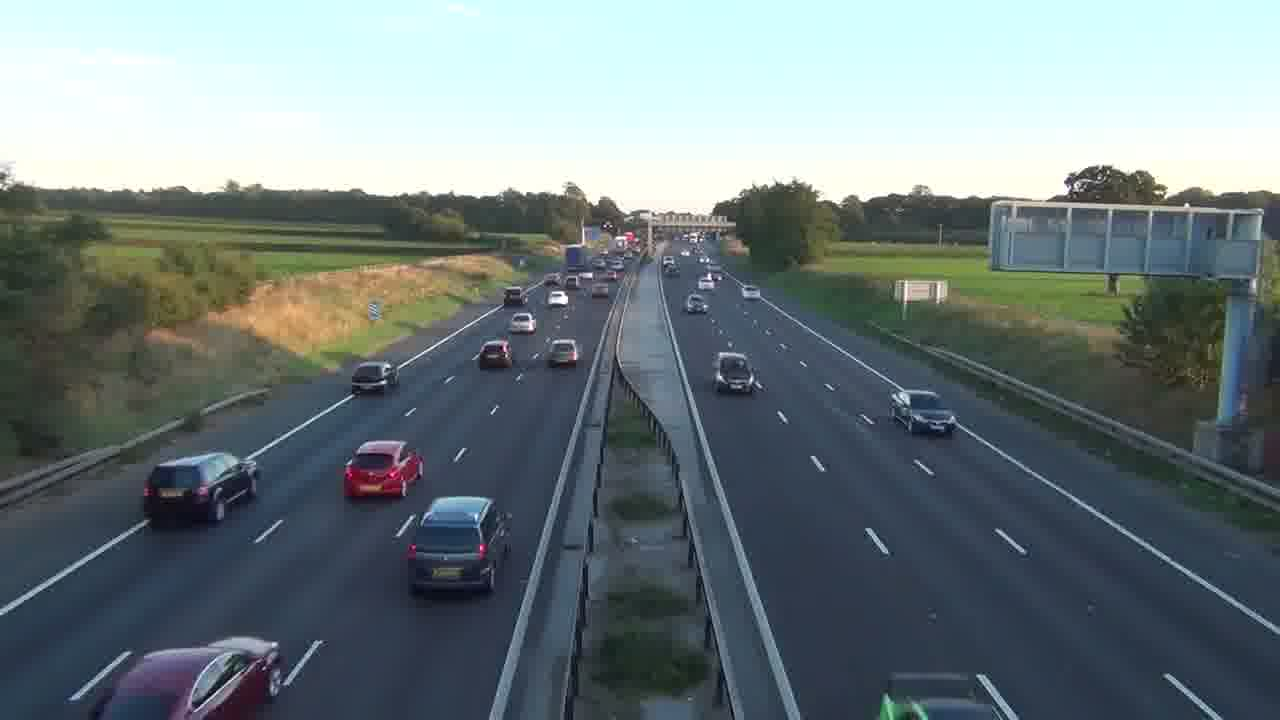car: (89, 636, 285, 719), (394, 495, 513, 597), (343, 438, 425, 499), (889, 388, 956, 436), (351, 361, 398, 393), (478, 338, 513, 369), (545, 338, 580, 368), (510, 313, 537, 333)
truck: (142, 450, 259, 526)
